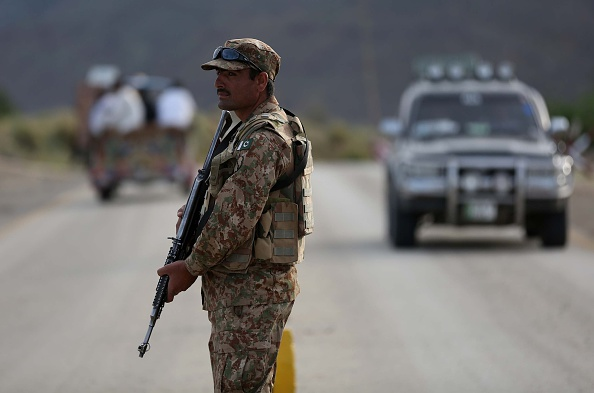em pe: (137, 25, 298, 393)
